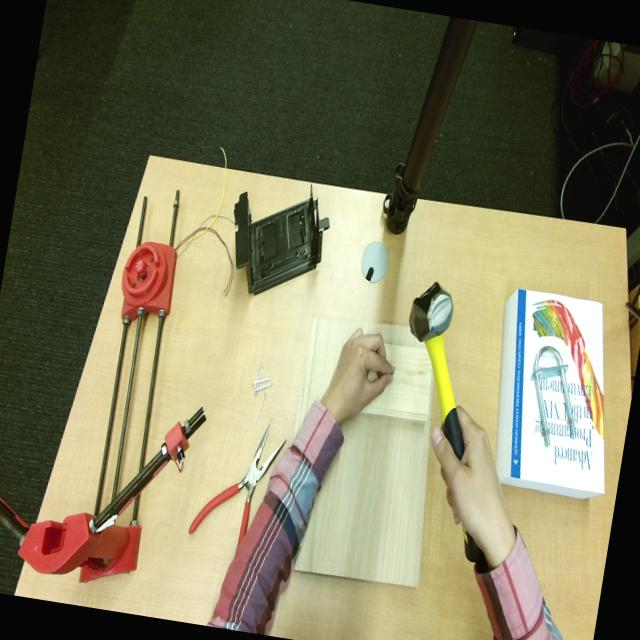hammer: (409, 282, 465, 459)
pliers: (189, 420, 285, 547)
